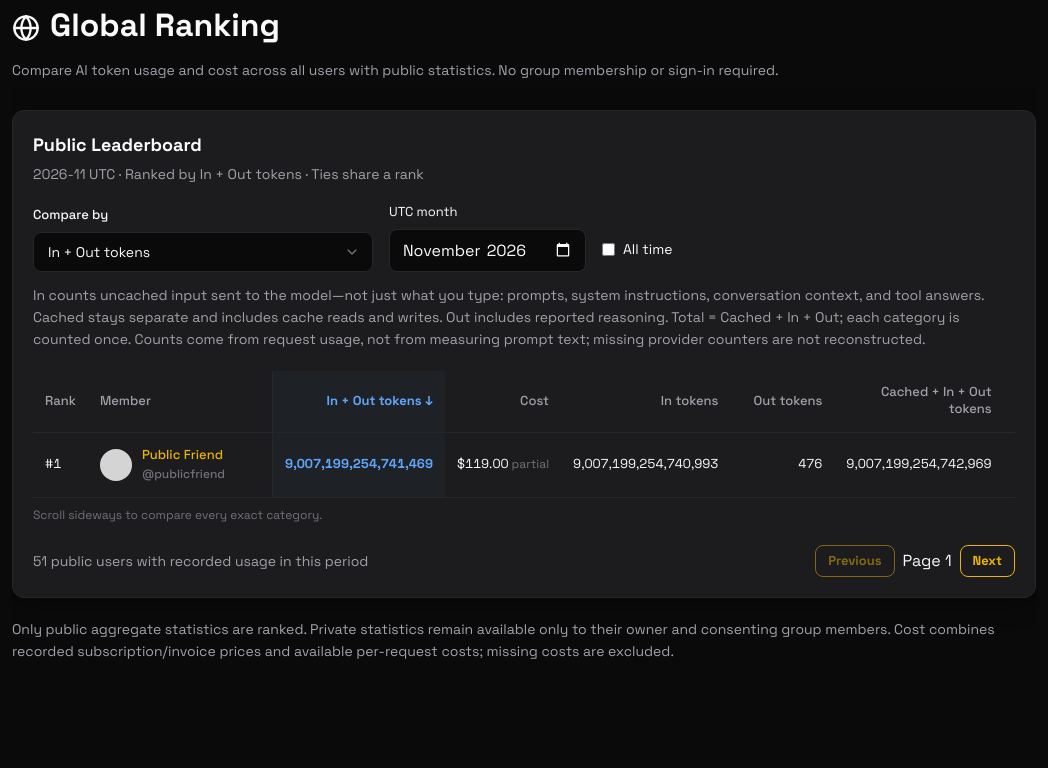
public global ranking › keeps server ranks across pages and resets pagination when the metric changes
Expected: the element named "Global leaderboard exact statistics" is shown, [33,371,1015,498]
Click the button "Next". click: (987, 561)
box: [960,545,1015,577]
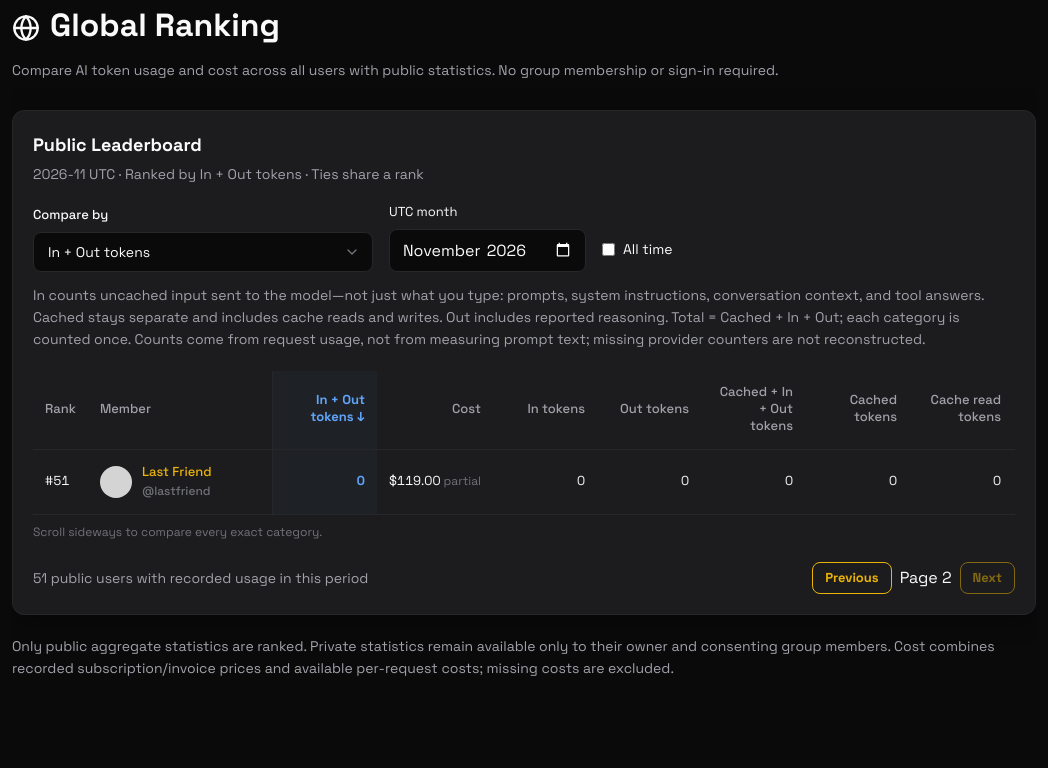
Now the link "Last Friend" is shown, box [142,462,212,480]
Now the text "#51" is shown, box [33,450,88,514]
Now the button "Next" is disabled, box [960,562,1015,594]
Select "Out tokens" in the dropdown labelled "Compare by". click: (203, 252)
box: [33,232,373,272]
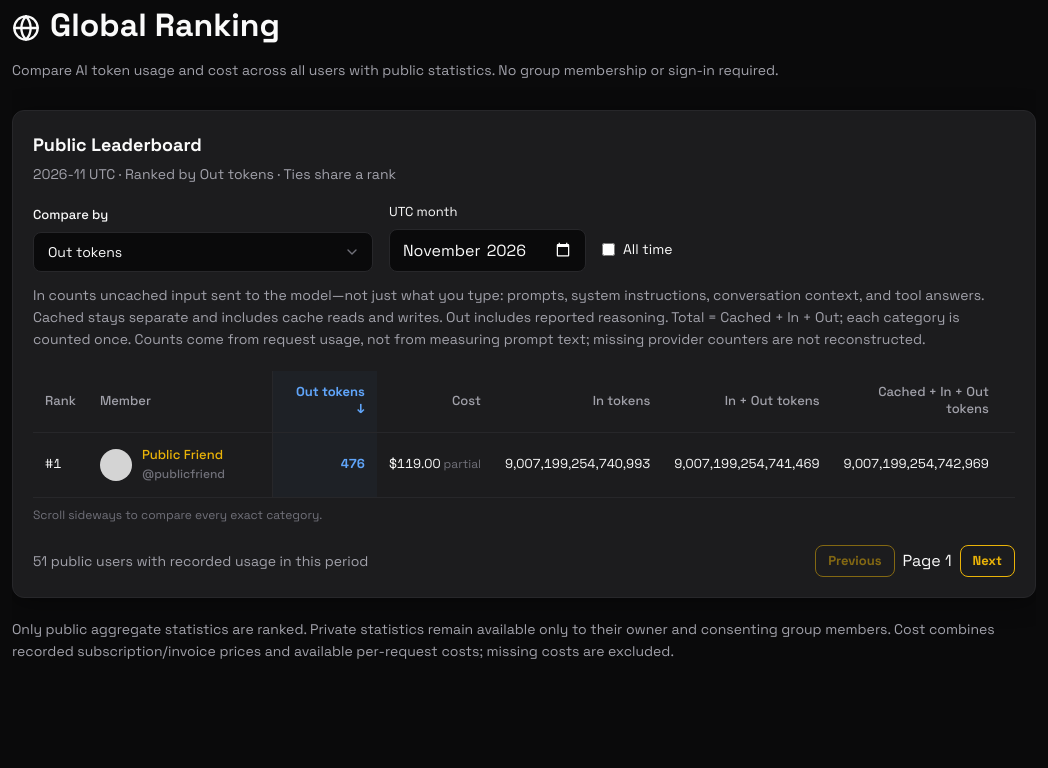
Now the link "Public Friend" is shown, box [142,446,223,462]
Now the text "Page 1" is shown, box [903,548,952,574]
